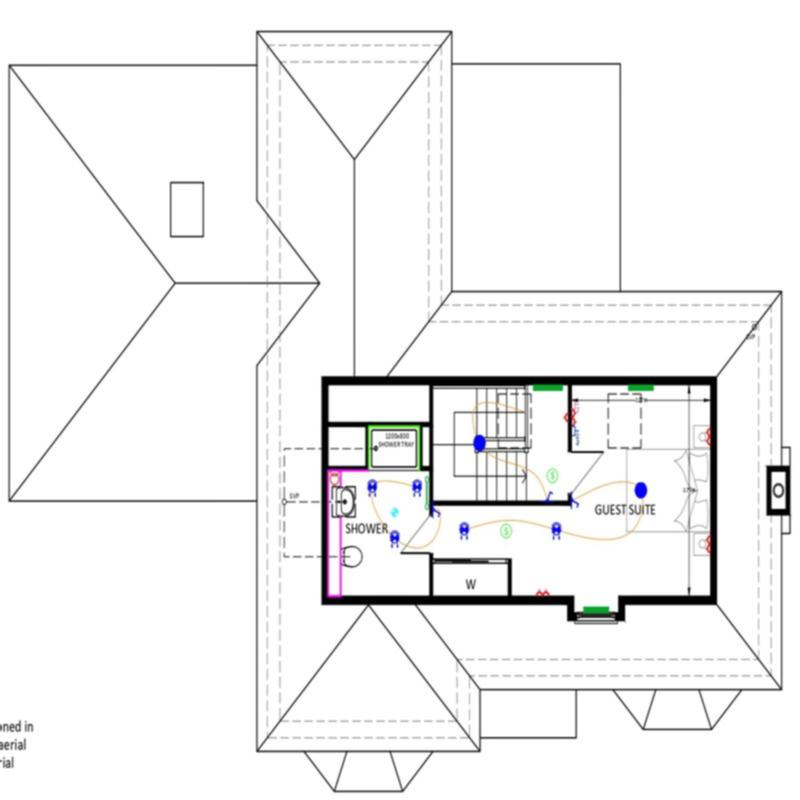Cat 6 Data Socket: (572, 426, 583, 447)
Ceiling Mounted Continuous Extract FanWith Boost Mode Activated By Light Switch: (391, 507, 398, 517)
Double Socket: (704, 427, 710, 446), (571, 410, 579, 424), (704, 536, 710, 553), (536, 588, 550, 595)
Full Height Tiling: (367, 425, 421, 469)
Light Switch: (432, 508, 442, 519), (544, 490, 555, 500), (572, 498, 580, 509)
Low Energy Downlighter: (389, 530, 400, 550), (411, 479, 423, 497), (459, 522, 470, 541), (551, 522, 561, 541), (367, 480, 377, 497)
Low Energy Pendant Light: (634, 482, 647, 499), (473, 435, 486, 451)
Mains Wired Smoke Detector: (546, 468, 558, 483), (500, 523, 512, 538)
Radiator: (532, 384, 563, 391), (627, 384, 654, 392), (583, 607, 611, 613)
Shaver Socket: (329, 470, 341, 487)
Single Socket: (562, 412, 568, 424), (572, 400, 578, 409)
